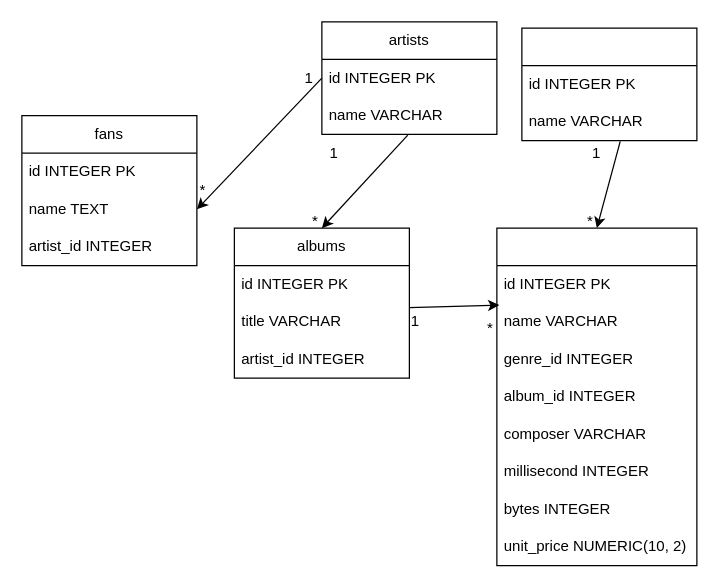
The diagram is 719 pixels wide and 588 high, and some of its shapes have lost their labels. Each missing label, with the box of its shape:
genres: (521, 27, 697, 141)
tracks: (496, 227, 697, 566)
